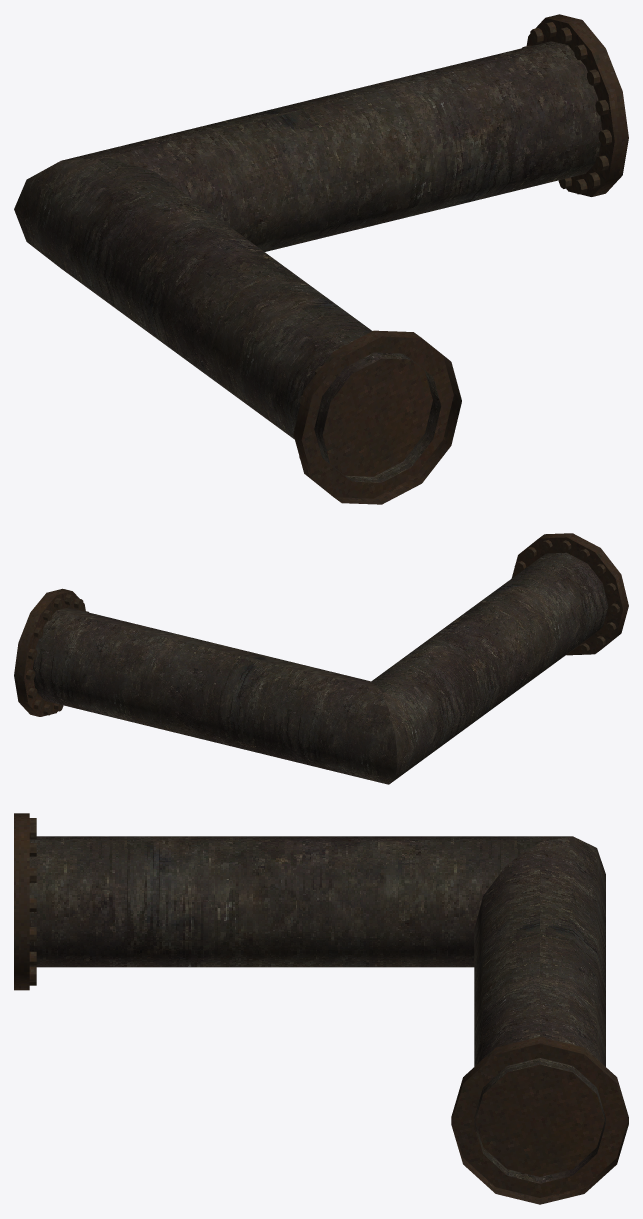
File: pipe_bx_3.glb
3 views of the same model, one above another, from view 1: azimuth 30°, elevation 25°; view 2: azimuth 150°, elevation 25°; view 3: azimuth 270°, elevation 25° (orthographic). The views are drawn at different scales.
Parts seen in each view (by area): view 1: pipe_bx_3; view 2: pipe_bx_3; view 3: pipe_bx_3.
Part boxes in pixels (x1,y1,x2,y2): pipe_bx_3: [14, 14, 628, 504]; pipe_bx_3: [14, 533, 628, 784]; pipe_bx_3: [14, 813, 628, 1204].
Size of the model in its own units: 2.34 by 0.676 by 2.34.
Materials: 2 (2 with a texture image).
